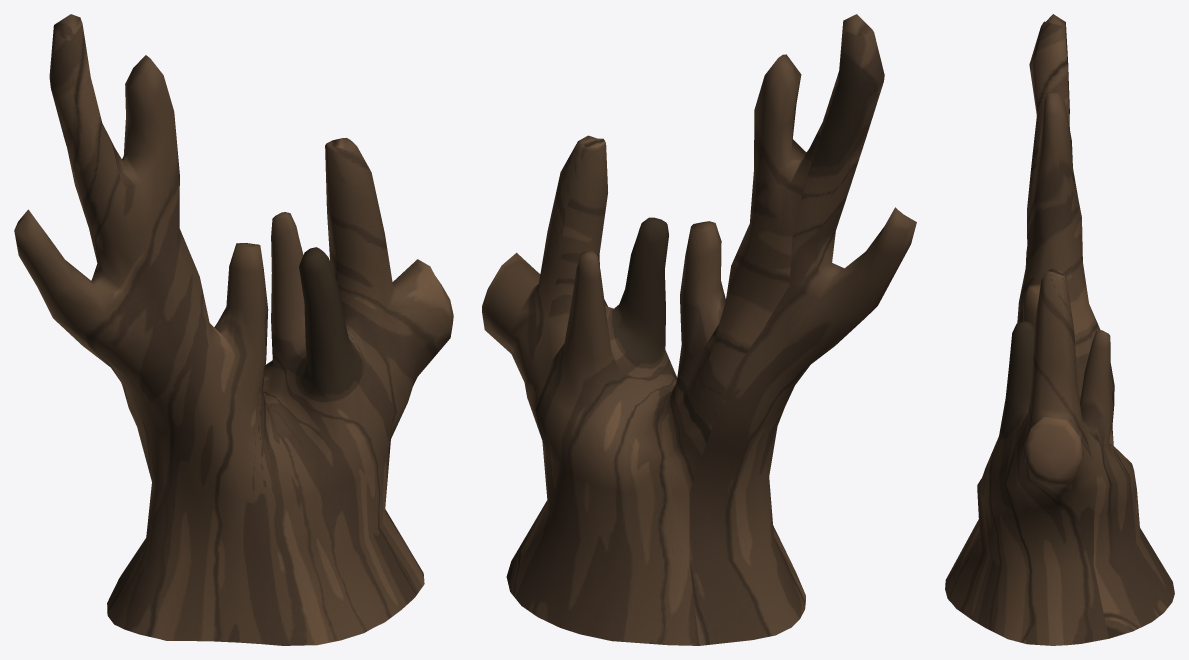
File: Swamp_Tree_Test.fbx
The picture shows the model from 3 angles, left to right: view 1: azimuth 30°, elevation 25°; view 2: azimuth 150°, elevation 25°; view 3: azimuth 270°, elevation 25°; orthographic projection. The views are drawn at different scales.
Parts seen in each view (by area): view 1: Arbol_Molongo; view 2: Arbol_Molongo; view 3: Arbol_Molongo.
Part boxes in pixels (x1,y1,x2,y2): Arbol_Molongo: [14, 14, 453, 645]; Arbol_Molongo: [482, 14, 916, 645]; Arbol_Molongo: [945, 14, 1174, 645].
Size of the model in its own units: 1013 by 1413 by 585.
